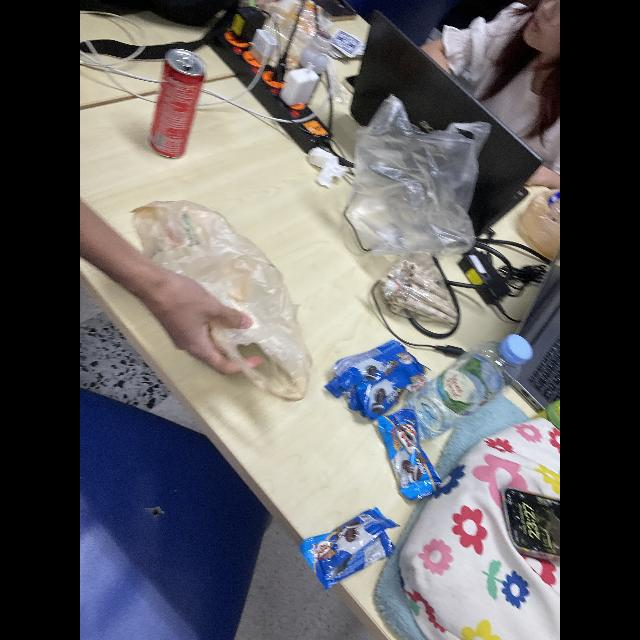can: (150, 48, 207, 160)
plastic_bag: (128, 195, 314, 405), (348, 90, 482, 256), (516, 180, 560, 258), (265, 1, 335, 44)
plastic_bottle: (411, 332, 532, 441), (291, 32, 329, 112)
scrap_paper: (305, 146, 349, 188)
snack_bag: (323, 337, 427, 419), (299, 504, 401, 586), (373, 406, 442, 500)
